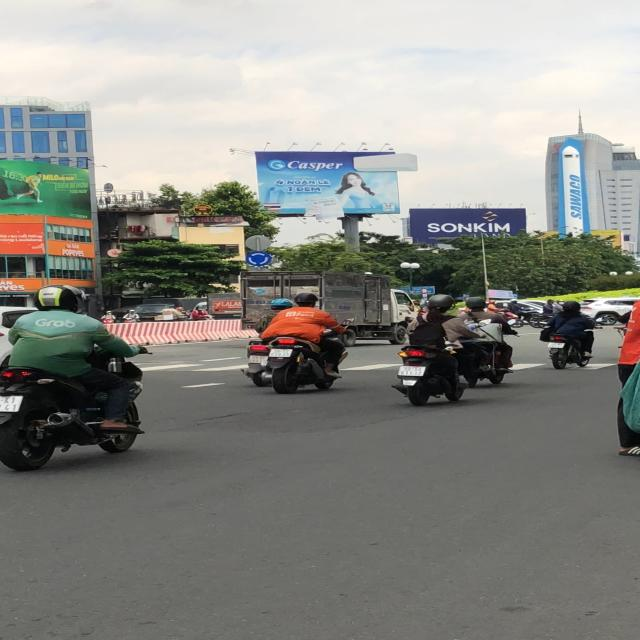Bien bao noi giao nhau chay theo vong xuyen: (244, 250, 275, 268)
